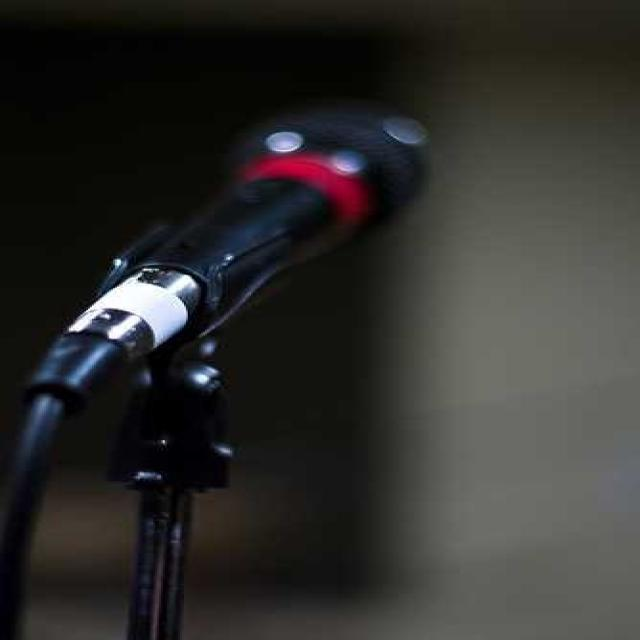microphone: (96, 98, 432, 370)
